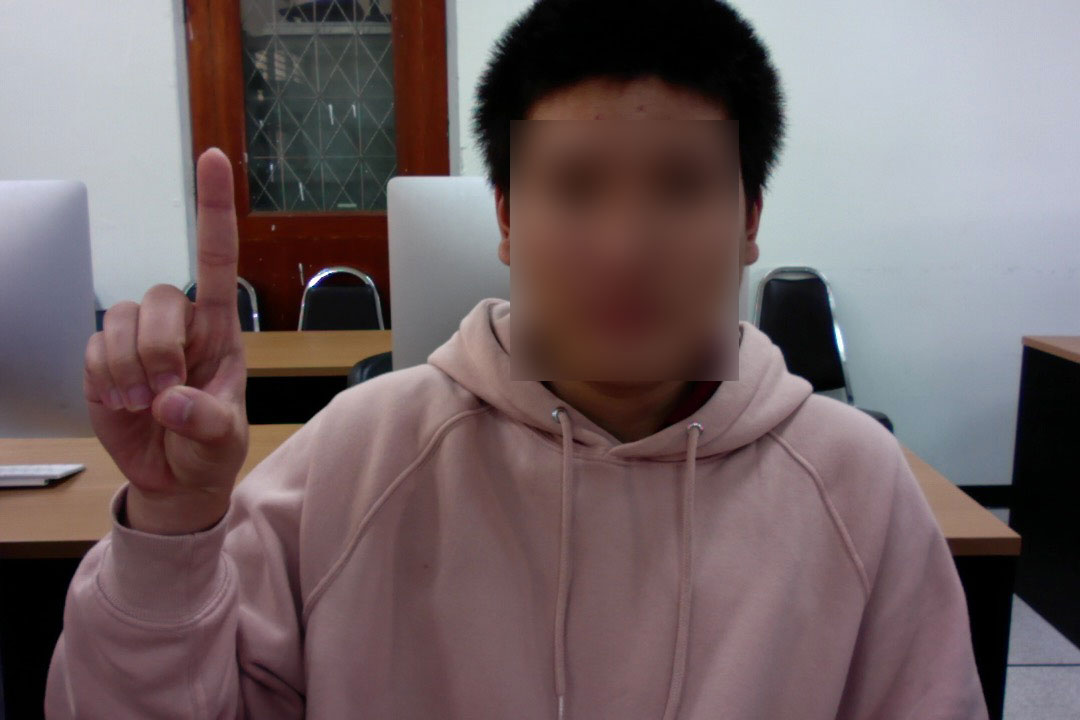dor: (67, 136, 261, 488)
